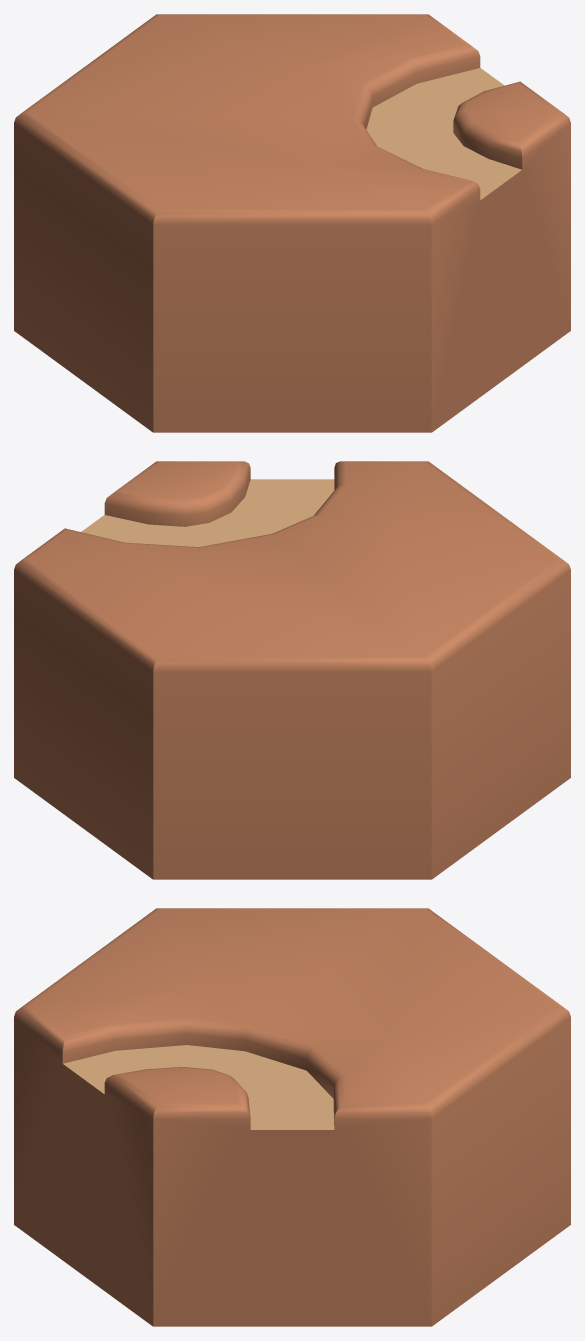
Rendered from hex_rock_roadC.glb.
The picture shows the model from 3 angles, top to bottom: view 1: azimuth 30°, elevation 25°; view 2: azimuth 150°, elevation 25°; view 3: azimuth 270°, elevation 25°; orthographic projection.
Parts seen in each view (by area): view 1: hex_rock_roadC; view 2: hex_rock_roadC; view 3: hex_rock_roadC.
Part boxes in pixels (bbox=[...]): hex_rock_roadC: bbox=[14, 14, 570, 432]; hex_rock_roadC: bbox=[14, 461, 570, 879]; hex_rock_roadC: bbox=[14, 908, 570, 1326].
Bounding box in the file's own units: 2 × 1 × 2.31.
